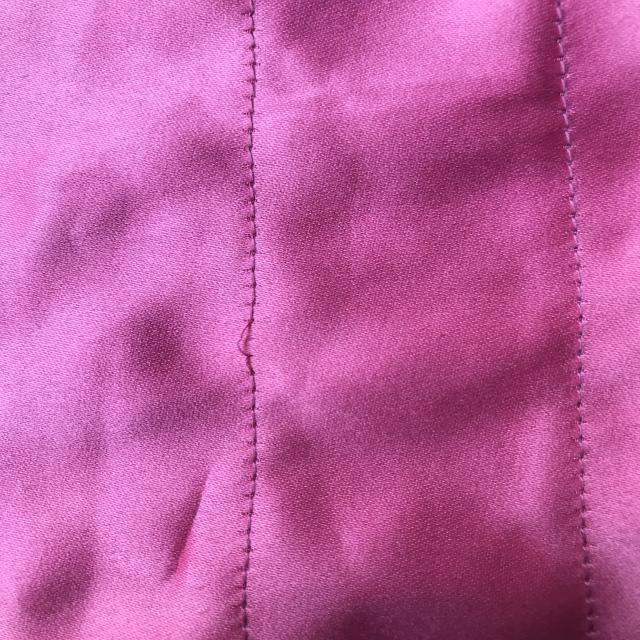skip: (218, 304, 280, 384)
